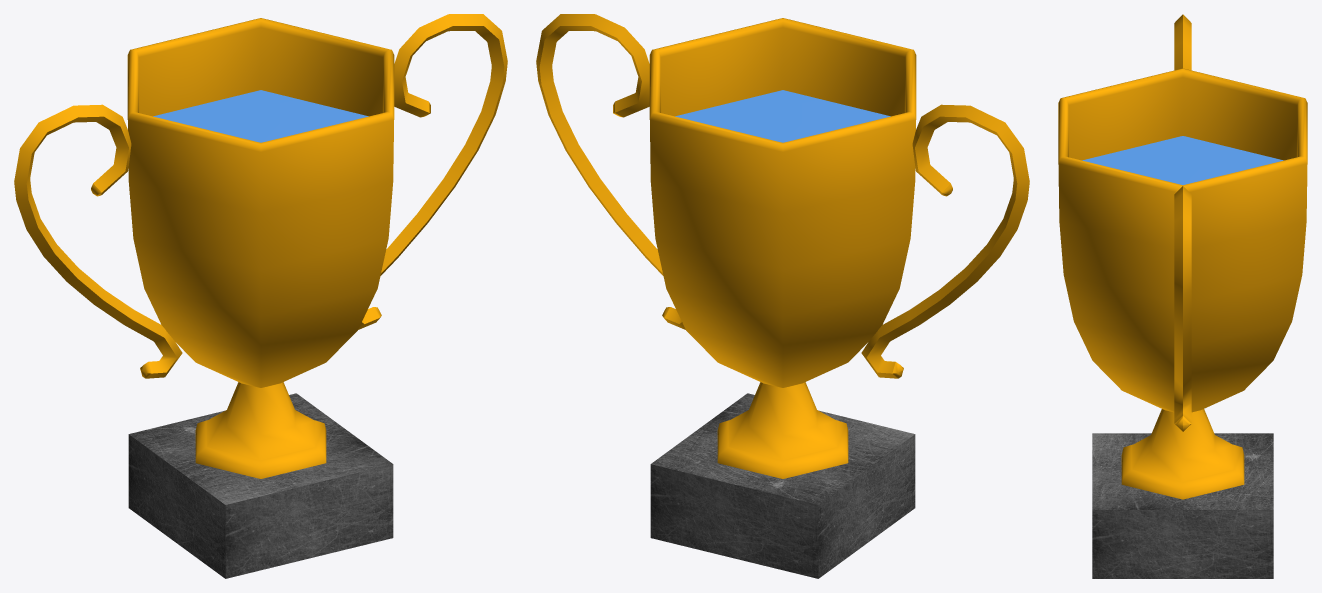
File: handwash.obj
3 views of the same model, side by side, from view 1: azimuth 30°, elevation 25°; view 2: azimuth 150°, elevation 25°; view 3: azimuth 270°, elevation 25° (orthographic). The views are drawn at different scales.
Bounding box in the file's own units: 2.67 × 2.4 × 1.25.
Materials: 3 (1 with a texture image).
